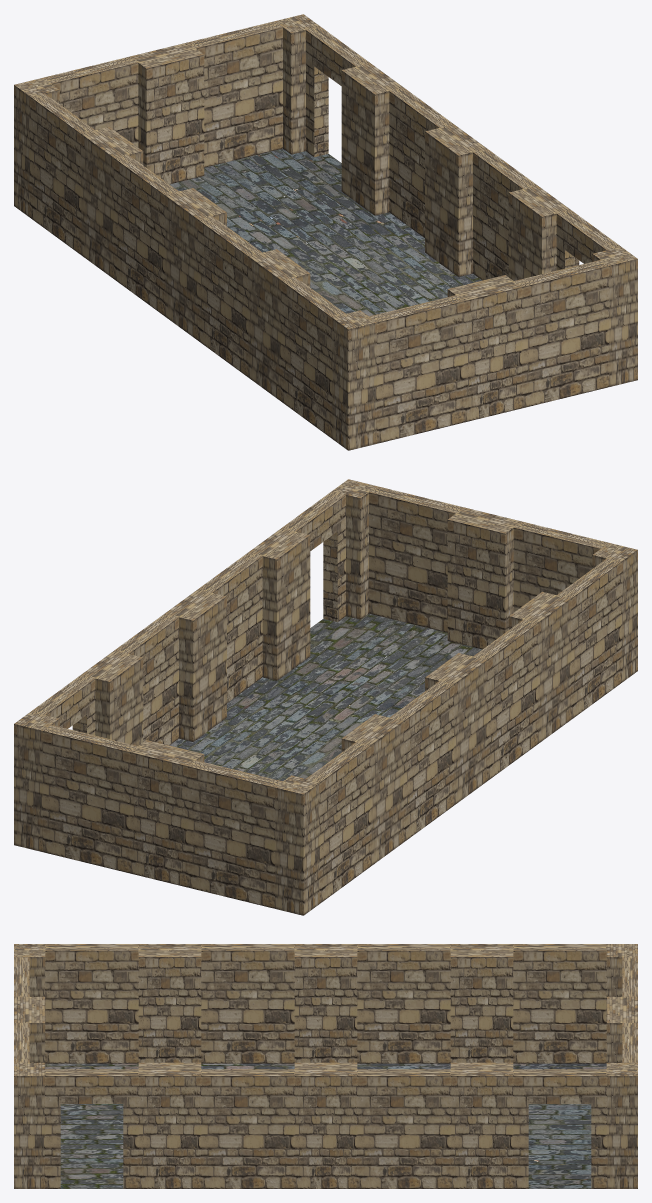
The model's file is 1_chestRoom.fbx.
3 views of the same model, one above another, from view 1: azimuth 30°, elevation 25°; view 2: azimuth 150°, elevation 25°; view 3: azimuth 270°, elevation 25° (orthographic). The views are drawn at different scales.
Visible parts, largest first — view 1: Cube_1, Plane; view 2: Cube_1, Plane; view 3: Cube_1, Plane.
Boxes of the visible parts, <box> form: Cube_1: <box>14,14,637,450</box>; Plane: <box>169,148,482,316</box>; Cube_1: <box>14,479,637,915</box>; Plane: <box>169,613,482,781</box>; Cube_1: <box>14,944,637,1188</box>; Plane: <box>45,1063,606,1188</box>.
Bounding box in the file's own units: 20 × 8 × 40.
Materials: 2 (2 with a texture image).
